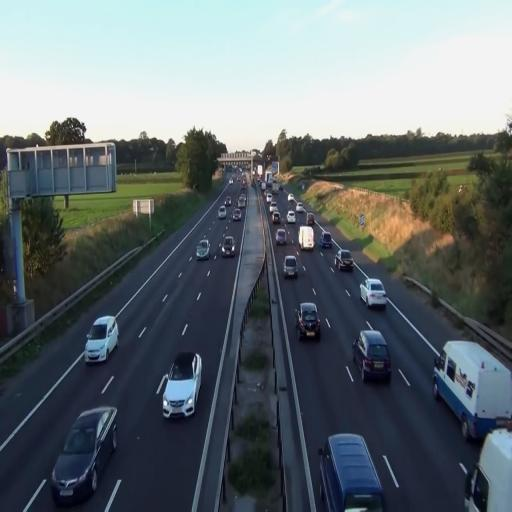vehicle: (432, 339, 512, 443), (50, 405, 119, 505), (318, 431, 385, 512), (463, 426, 512, 512), (161, 352, 202, 418), (354, 327, 392, 383), (84, 315, 118, 365), (296, 302, 320, 340), (359, 278, 387, 310), (282, 254, 298, 280), (298, 226, 314, 251), (335, 250, 353, 272), (221, 234, 236, 256), (196, 238, 210, 260), (275, 227, 288, 246), (320, 232, 333, 251), (232, 203, 244, 222), (218, 204, 230, 218)
